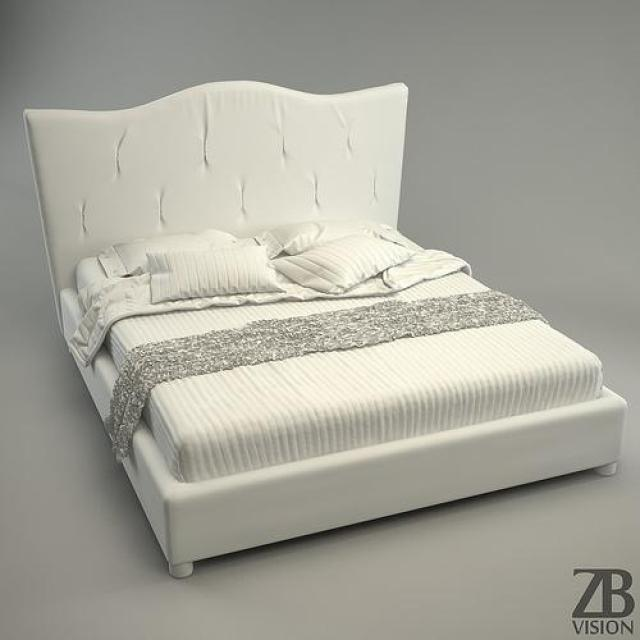bed: (22, 78, 627, 579)
